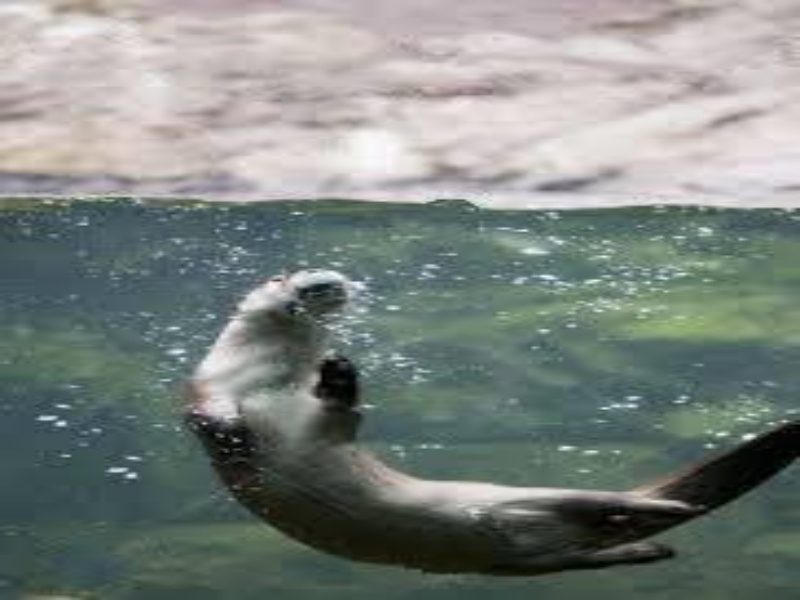minkish: (182, 260, 798, 574)
